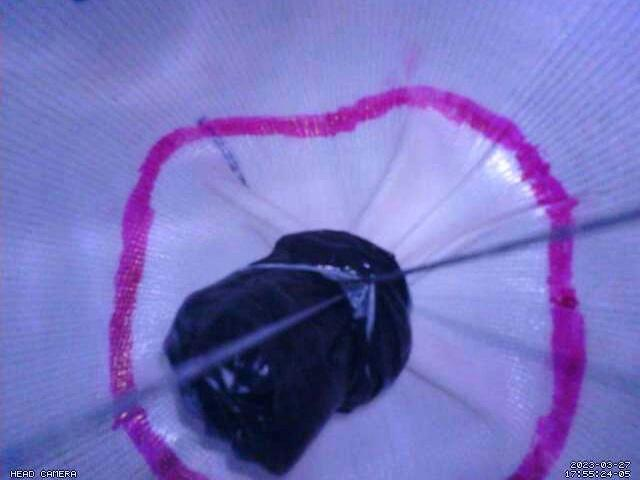red-circle: (107, 84, 588, 480)
